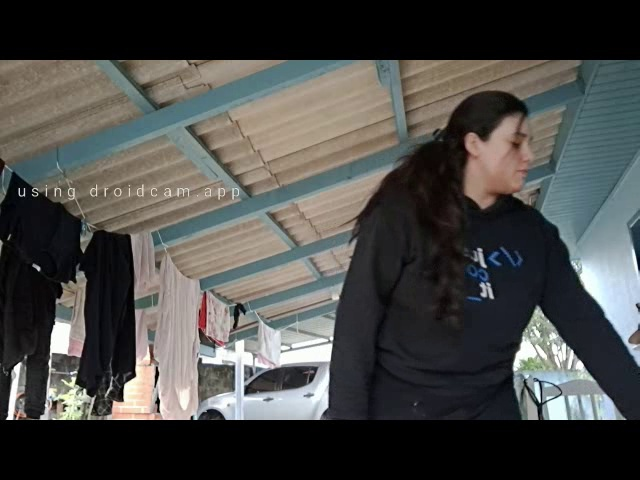MULHER: (419, 75, 582, 238)
